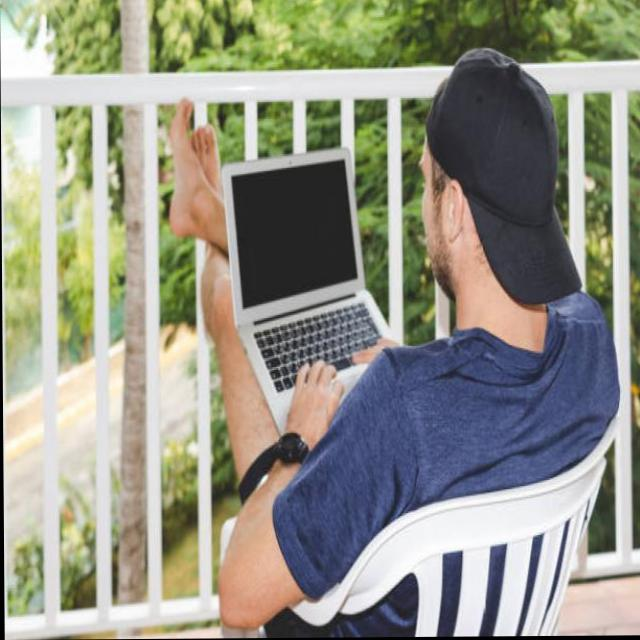no helmet: (404, 21, 597, 344)
